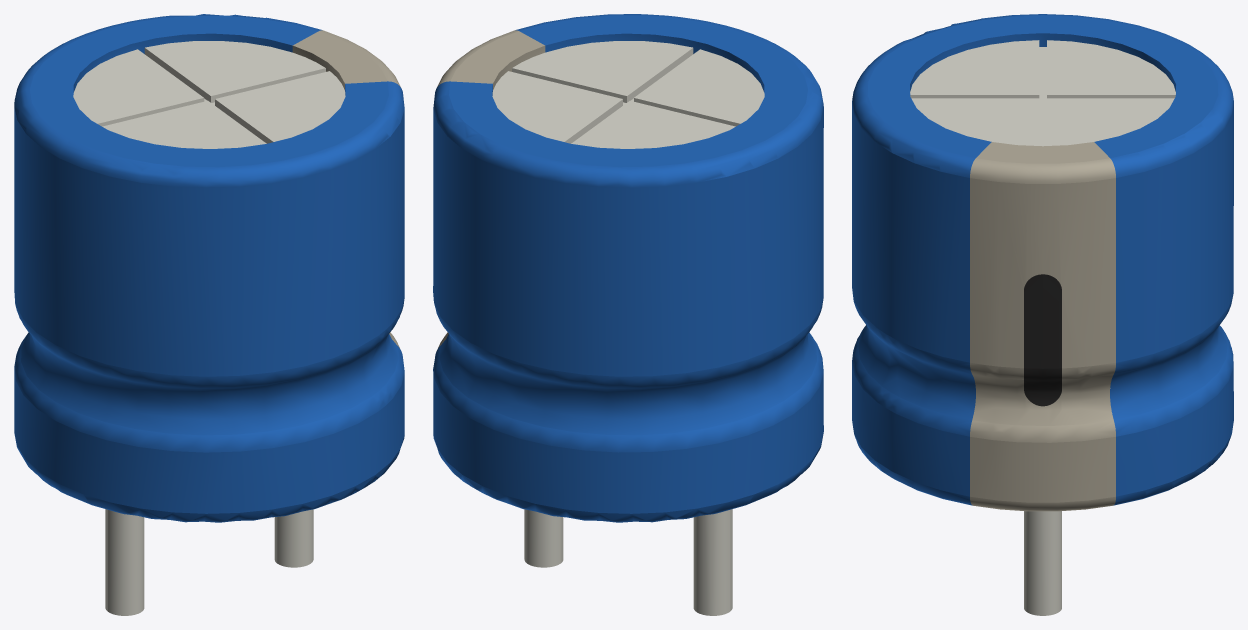
Rendered from kc-cp_radial_d5.0mm_p2.50mm.glb.
The picture shows the model from 3 angles, left to right: view 1: azimuth 30°, elevation 25°; view 2: azimuth 150°, elevation 25°; view 3: azimuth 270°, elevation 25°; orthographic projection. The views are drawn at different scales.
Parts seen in each view (by area): view 1: 0_0.16666666666666666_0.5_0, 0.6666666666666666_0.6666666666666666_0.5833333333333334_0.8, 0.4166666666666667_0.4166666666666667_0.3333333333333333_0; view 2: 0_0.16666666666666666_0.5_0, 0.6666666666666666_0.6666666666666666_0.5833333333333334_0.8, 0.4166666666666667_0.4166666666666667_0.3333333333333333_0; view 3: 0_0.16666666666666666_0.5_0, 0.4166666666666667_0.4166666666666667_0.3333333333333333_0, 0.6666666666666666_0.6666666666666666_0.5833333333333334_0.8, 0_0_0_0.
Boxes of the visible parts, <box> form: 0_0.16666666666666666_0.5_0: <box>14,14,404,522</box>; 0.6666666666666666_0.6666666666666666_0.5833333333333334_0.8: <box>73,41,345,615</box>; 0.4166666666666667_0.4166666666666667_0.3333333333333333_0: <box>292,30,400,348</box>; 0_0.16666666666666666_0.5_0: <box>433,14,823,522</box>; 0.6666666666666666_0.6666666666666666_0.5833333333333334_0.8: <box>492,41,764,615</box>; 0.4166666666666667_0.4166666666666667_0.3333333333333333_0: <box>437,30,545,348</box>; 0_0.16666666666666666_0.5_0: <box>852,14,1233,505</box>; 0.4166666666666667_0.4166666666666667_0.3333333333333333_0: <box>970,142,1115,511</box>; 0.6666666666666666_0.6666666666666666_0.5833333333333334_0.8: <box>910,40,1175,615</box>; 0_0_0_0: <box>1024,274,1061,406</box>.
Bounding box in the file's own units: 0.5 × 0.7 × 0.4999.
